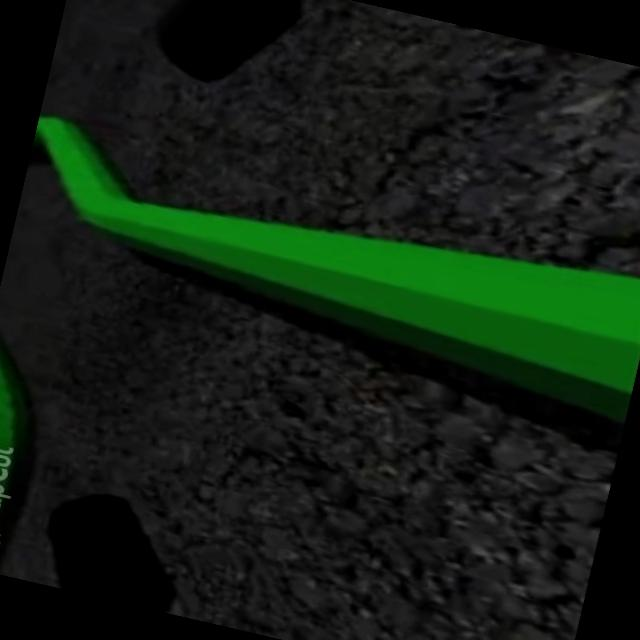gas: (8, 135, 640, 425)
